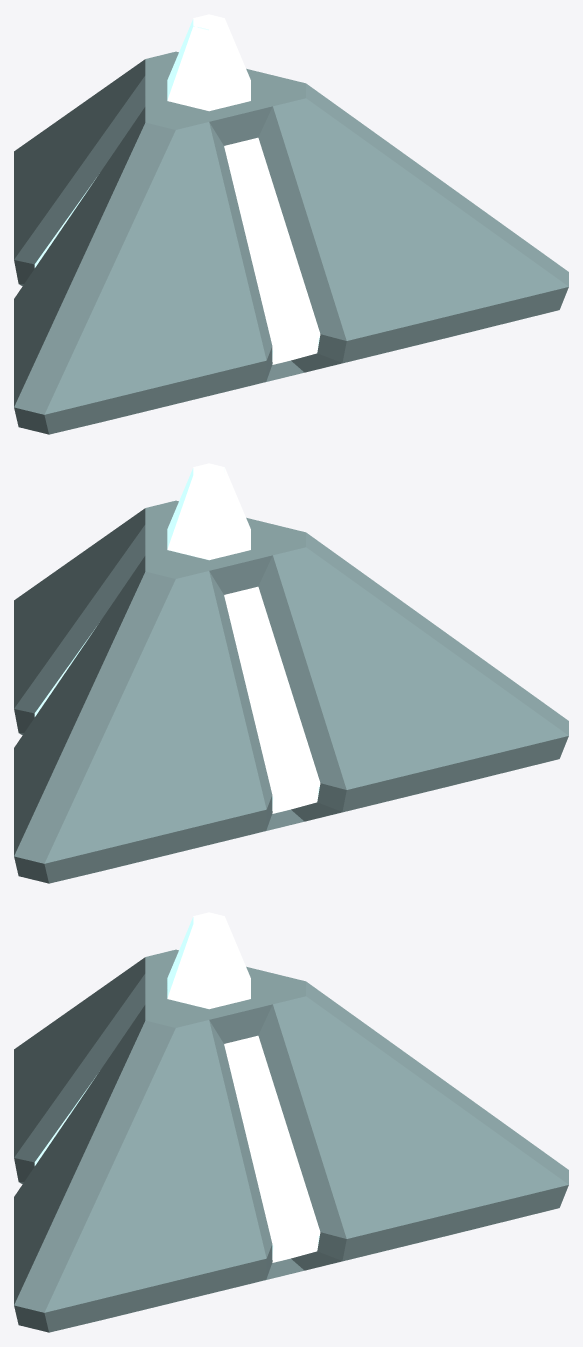
Rendered from pyramid_device.fbx.
The picture shows the model from 3 angles, top to bottom: view 1: azimuth 30°, elevation 25°; view 2: azimuth 150°, elevation 25°; view 3: azimuth 270°, elevation 25°; orthographic projection.
Visible parts, largest first — view 1: Cone.004; view 2: Cone.004; view 3: Cone.004.
Boxes of the visible parts, <box> form: Cone.004: <box>14,14,568,434</box>; Cone.004: <box>14,463,568,883</box>; Cone.004: <box>14,912,568,1332</box>.
Bounding box in the file's own units: 158 × 83.65 × 137.
